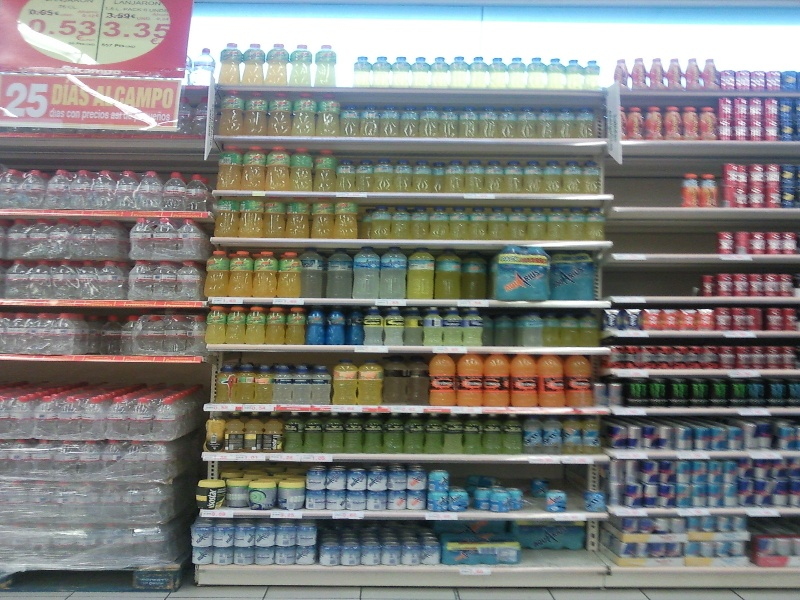lemonade: (482, 349, 514, 408), (511, 351, 543, 409), (428, 350, 458, 411), (538, 357, 569, 408), (228, 246, 258, 298), (459, 351, 484, 409), (435, 248, 462, 301), (410, 250, 436, 305), (359, 358, 389, 404), (216, 146, 242, 192), (323, 408, 346, 460), (278, 248, 302, 297), (293, 92, 320, 135), (381, 408, 404, 458), (335, 198, 362, 240), (291, 147, 316, 192), (204, 251, 228, 297), (267, 145, 291, 190), (282, 411, 306, 456), (243, 145, 266, 191), (311, 197, 336, 239), (285, 197, 311, 237), (303, 409, 325, 456), (262, 197, 287, 238), (265, 302, 287, 347), (445, 411, 467, 456), (245, 301, 266, 345), (287, 305, 309, 344), (427, 414, 447, 456), (362, 413, 382, 455), (404, 416, 424, 457), (343, 409, 362, 452), (328, 304, 348, 343), (308, 304, 327, 345), (464, 418, 484, 456), (504, 420, 525, 456)
